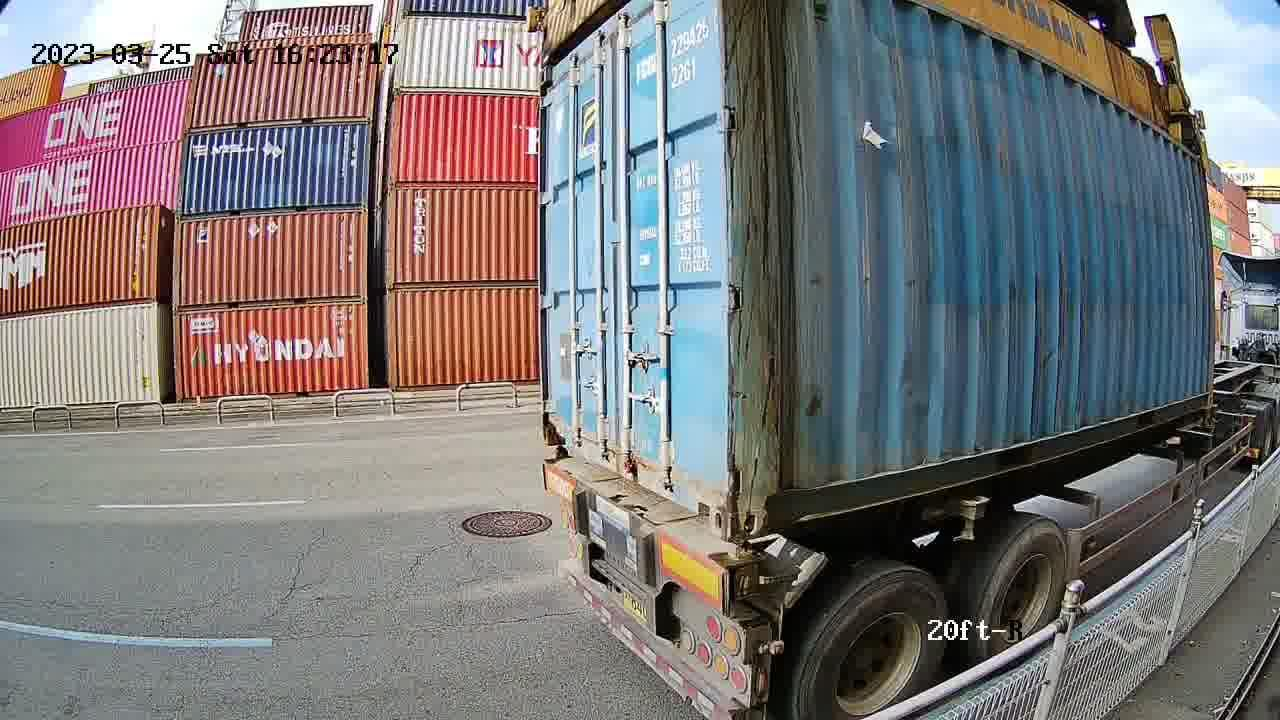Chassis: (544, 455, 757, 606)
Cone: (729, 545, 761, 597)
Hole_L: (729, 471, 798, 540), (542, 401, 577, 454)
Hole_R: (685, 453, 732, 539)
Tire: (797, 572, 949, 715), (977, 521, 1066, 670)
